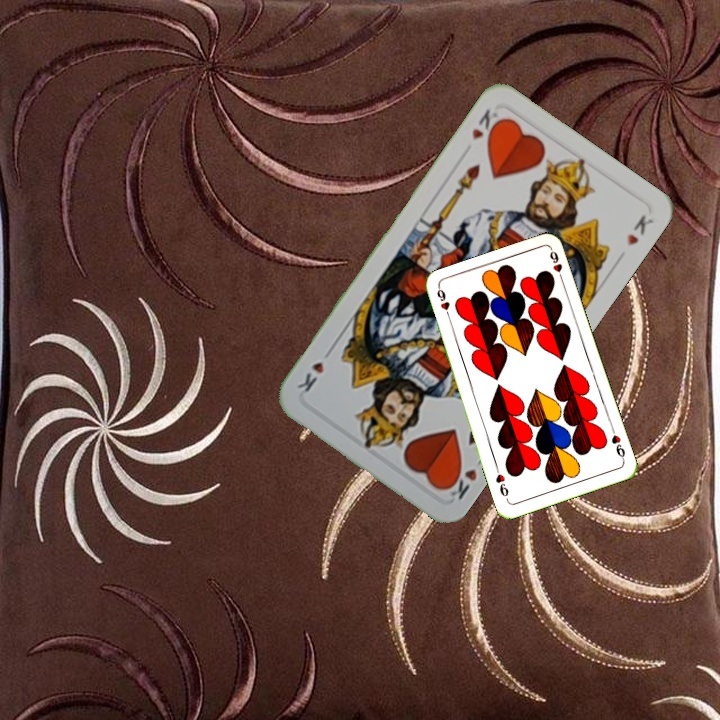H9: (607, 424, 628, 464), (433, 284, 453, 324)
HK: (440, 451, 488, 502), (468, 104, 506, 144)
